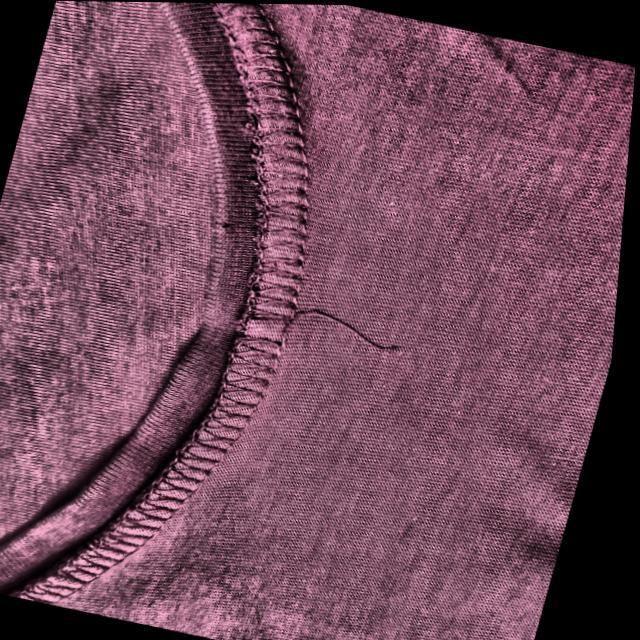Thread: (276, 308, 405, 356)
seam: (12, 0, 316, 614)
